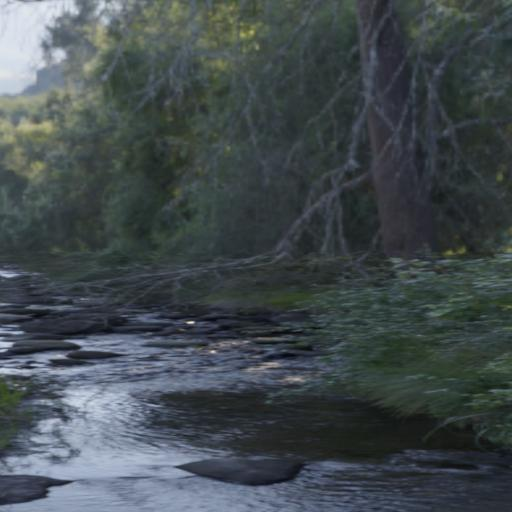nothing: (2, 0, 512, 512)
